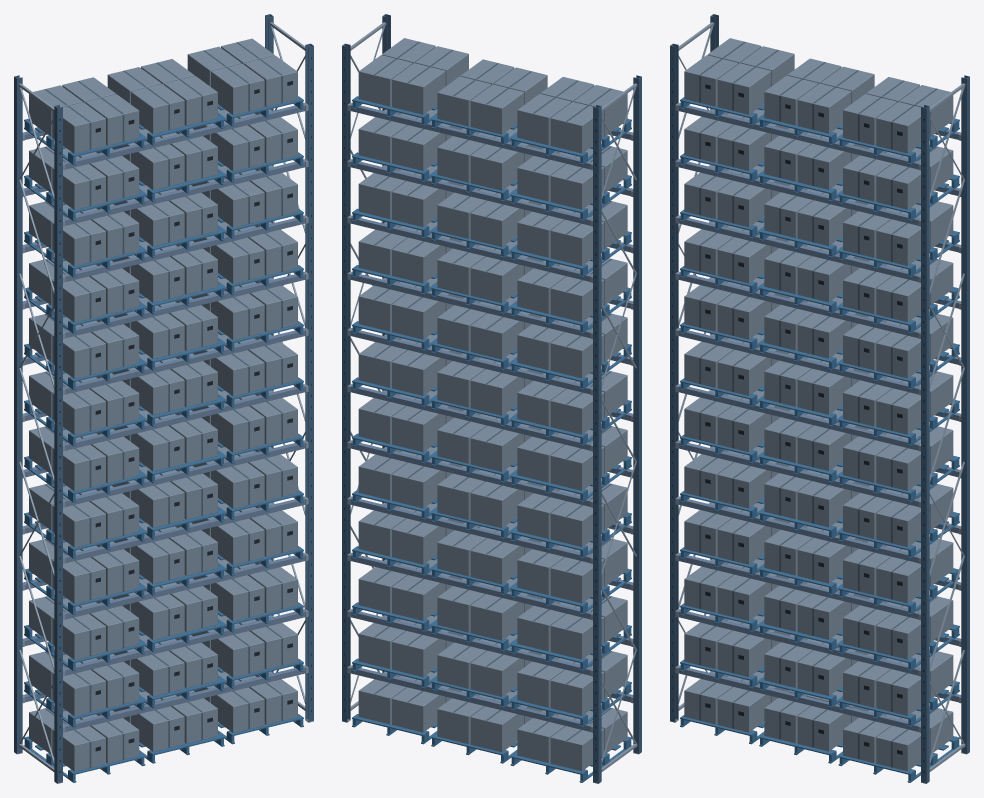
File: SM_GHS_V2Rack_B_W36363.fbx
The picture shows the model from 3 angles, left to right: view 1: azimuth 30°, elevation 25°; view 2: azimuth 150°, elevation 25°; view 3: azimuth 330°, elevation 25°; orthographic projection.
Visible parts, largest first — view 1: SM_GHS_V2Rack_B_W36363; view 2: SM_GHS_V2Rack_B_W36363; view 3: SM_GHS_V2Rack_B_W36363.
Part boxes in pixels (left/top/right/bottom): SM_GHS_V2Rack_B_W36363: left=14, top=14, right=313, bottom=783; SM_GHS_V2Rack_B_W36363: left=342, top=14, right=641, bottom=783; SM_GHS_V2Rack_B_W36363: left=670, top=14, right=969, bottom=783.
Size of the model in its own units: 364 by 122 by 915.
